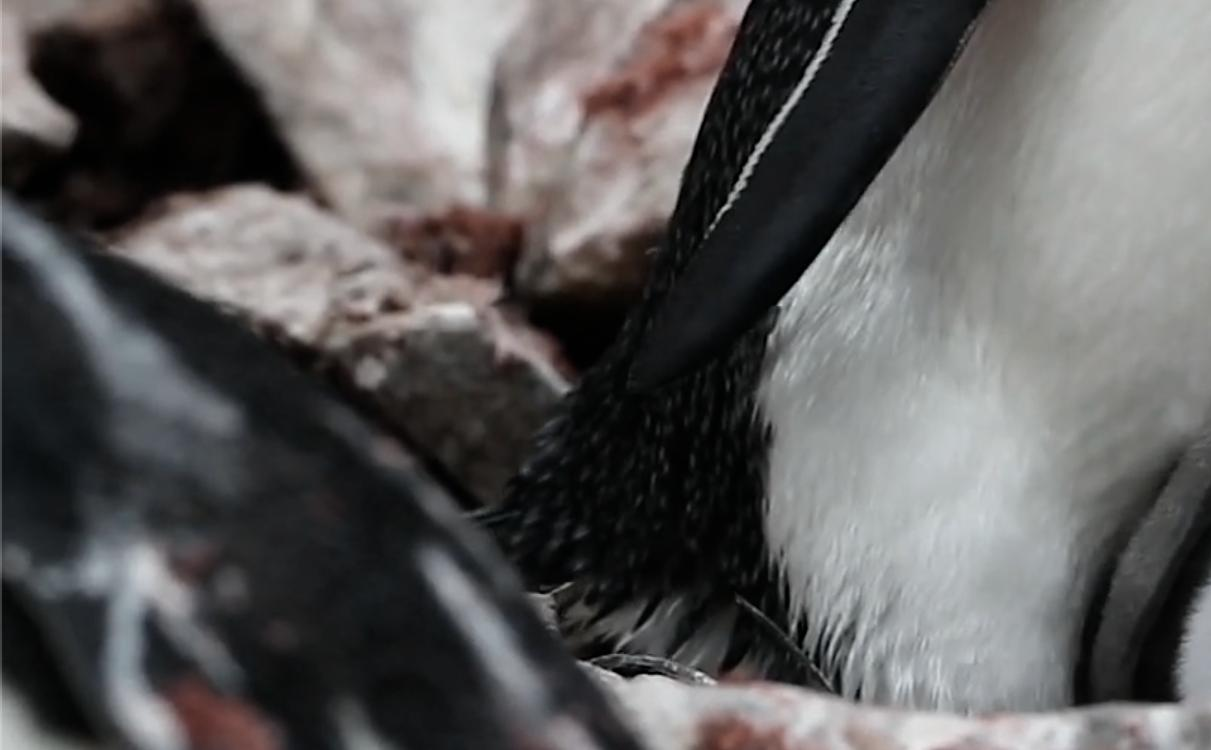Chinstrap Penguin: (782, 0, 1211, 12)
